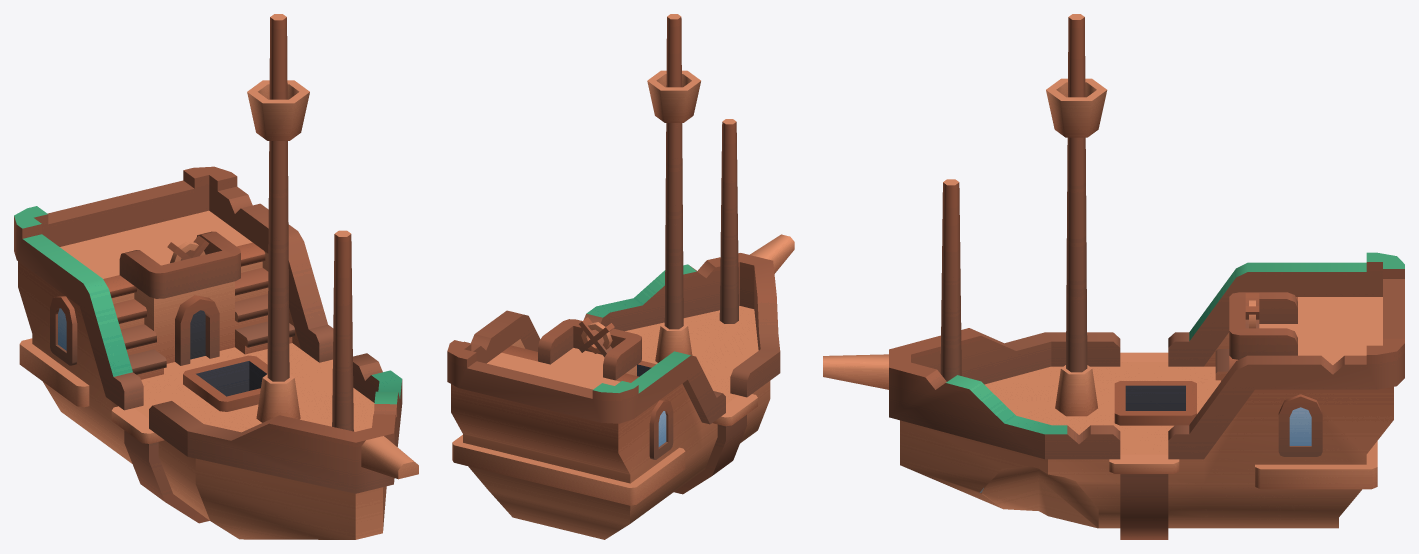
The model's file is ship-wreck_lev2.glb.
3 views of the same model, side by side, from view 1: azimuth 30°, elevation 25°; view 2: azimuth 150°, elevation 25°; view 3: azimuth 270°, elevation 25° (orthographic). The views are drawn at different scales.
Parts seen in each view (by area): view 1: ship-wreck_lev2; view 2: ship-wreck_lev2; view 3: ship-wreck_lev2.
Boxes of the visible parts, <box> form: ship-wreck_lev2: <box>14,14,418,539</box>; ship-wreck_lev2: <box>447,14,794,539</box>; ship-wreck_lev2: <box>823,14,1404,539</box>.
Size of the model in its own units: 6.14 by 12.75 by 13.57.
Materials: 1 (1 with a texture image).
